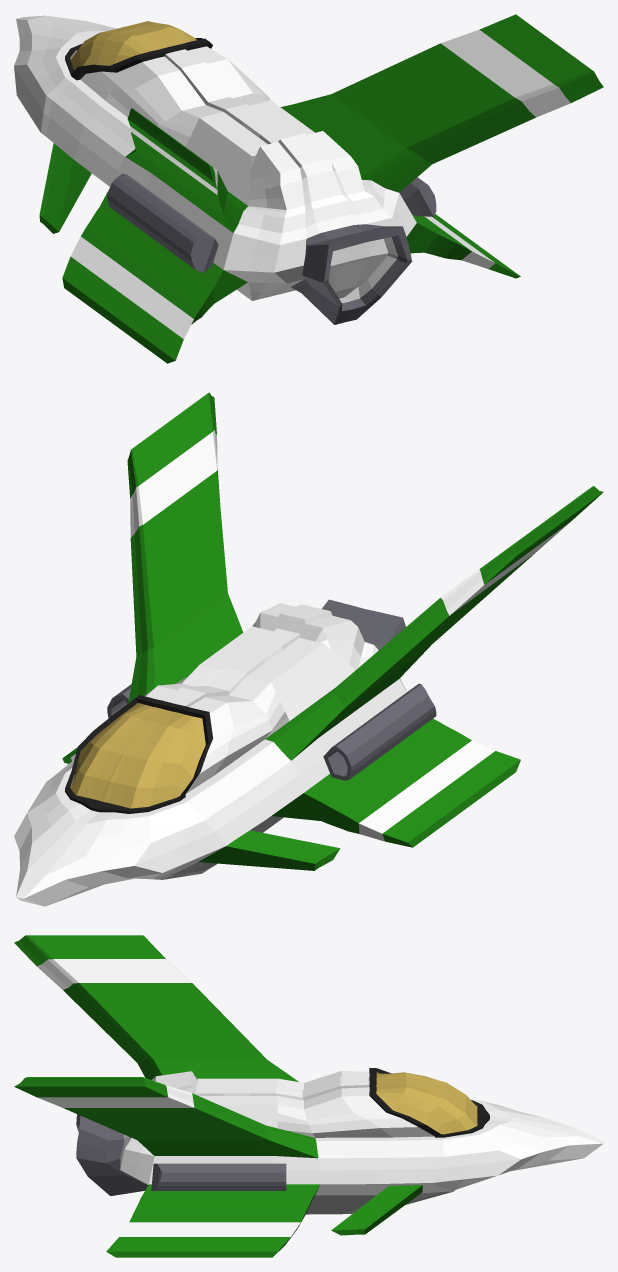
File: Green ship (1).fbx
3 views of the same model, one above another, from view 1: azimuth 30°, elevation 25°; view 2: azimuth 150°, elevation 25°; view 3: azimuth 270°, elevation 25° (orthographic). The views are drawn at different scales.
Visible parts, largest first — view 1: Ship 2; view 2: Ship 2; view 3: Ship 2.
Part boxes in pixels (box(x1,y1,x2,y2)): Ship 2: box(14, 14, 603, 363); Ship 2: box(14, 392, 603, 906); Ship 2: box(14, 935, 603, 1257).
Size of the model in its own units: 111 by 193 by 70.25.
